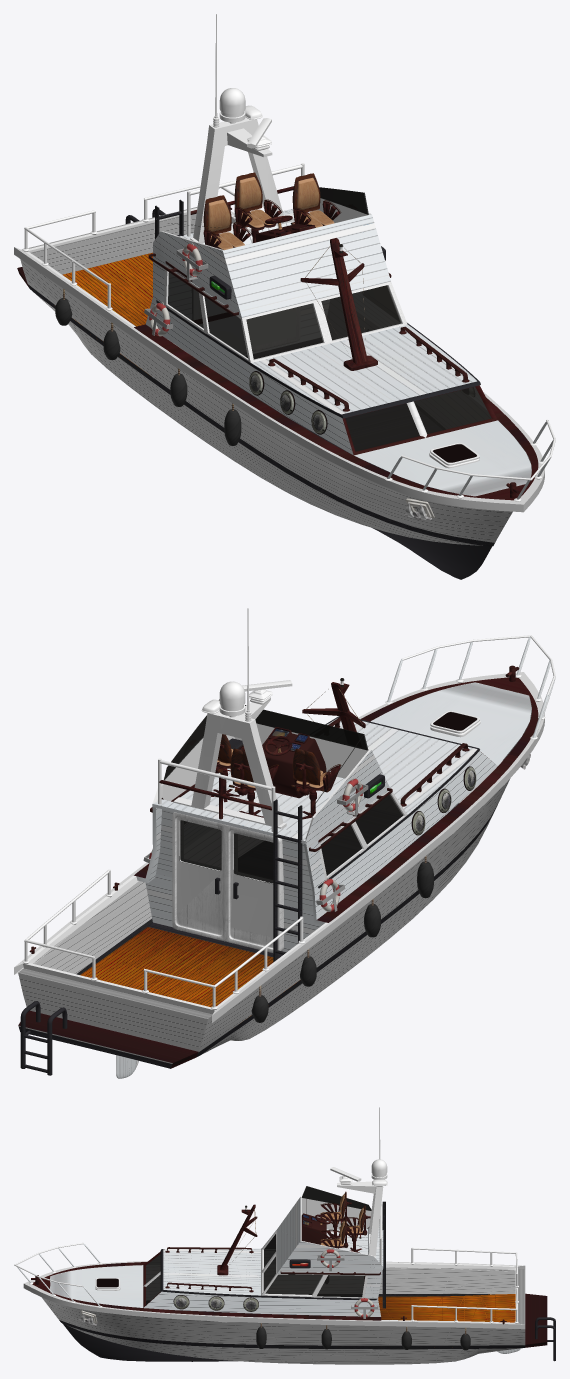
The model's file is ss_minnow_iii.glb.
3 renders of one model, top to bottom at view 1: azimuth 30°, elevation 25°; view 2: azimuth 150°, elevation 25°; view 3: azimuth 270°, elevation 25°, orthographic. The views are drawn at different scales.
Parts seen in each view (by area): view 1: Object_51, Object_48, Object_14, Object_46, Object_43, Object_31, Object_13, Object_20, Object_49, Object_52, Object_47, Object_38 (+8 smaller); view 2: Object_48, Object_51, Object_20, Object_14, Object_13, Object_43, Object_46, Object_38, Object_31, Object_29, Object_40, Object_26 (+9 smaller); view 3: Object_48, Object_51, Object_46, Object_14, Object_13, Object_38, Object_43, Object_31, Object_29, Object_40, Object_49, Object_34 (+10 smaller).
Boxes of the visible parts, x1,y1,x2,y2 form: Object_51: (146,208,553,499); Object_48: (14,206,544,545); Object_14: (168,187,491,451); Object_46: (28,284,494,579); Object_43: (190,14,479,468); Object_31: (134,214,538,500); Object_13: (62,252,152,374); Object_20: (192,289,299,353); Object_49: (164,264,427,437); Object_52: (208,177,334,249); Object_47: (300,238,377,370); Object_38: (22,163,541,498); Object_48: (14,672,544,1063); Object_51: (116,636,555,1078); Object_20: (172,812,283,952); Object_14: (164,699,475,883); Object_13: (80,927,299,1007); Object_43: (173,608,480,828); Object_46: (19,716,497,1068); Object_38: (22,679,541,1010); Object_31: (134,677,538,922); Object_29: (18,717,467,1068); Object_40: (24,635,555,1007); Object_26: (20,738,384,1075); Object_48: (23,1261,525,1364); Object_51: (17,1197,520,1353); Object_46: (59,1248,525,1361); Object_14: (146,1186,371,1309); Object_13: (378,1294,515,1322); Object_38: (51,1196,518,1323); Object_43: (95,1107,387,1290); Object_31: (32,1214,381,1320); Object_29: (167,1214,547,1347); Object_40: (14,1242,517,1323); Object_49: (143,1229,367,1298); Object_34: (165,1200,359,1292).
Bounding box in the file's own units: 2.35 × 4.36 × 8.58.
45 materials, 43 textured.
